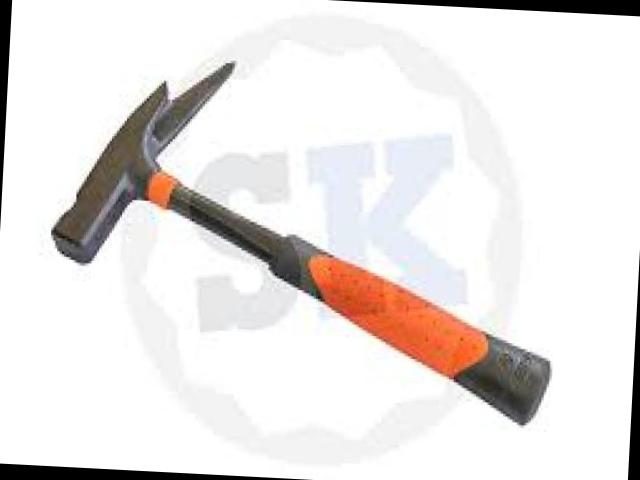hammer: (43, 48, 567, 428)
